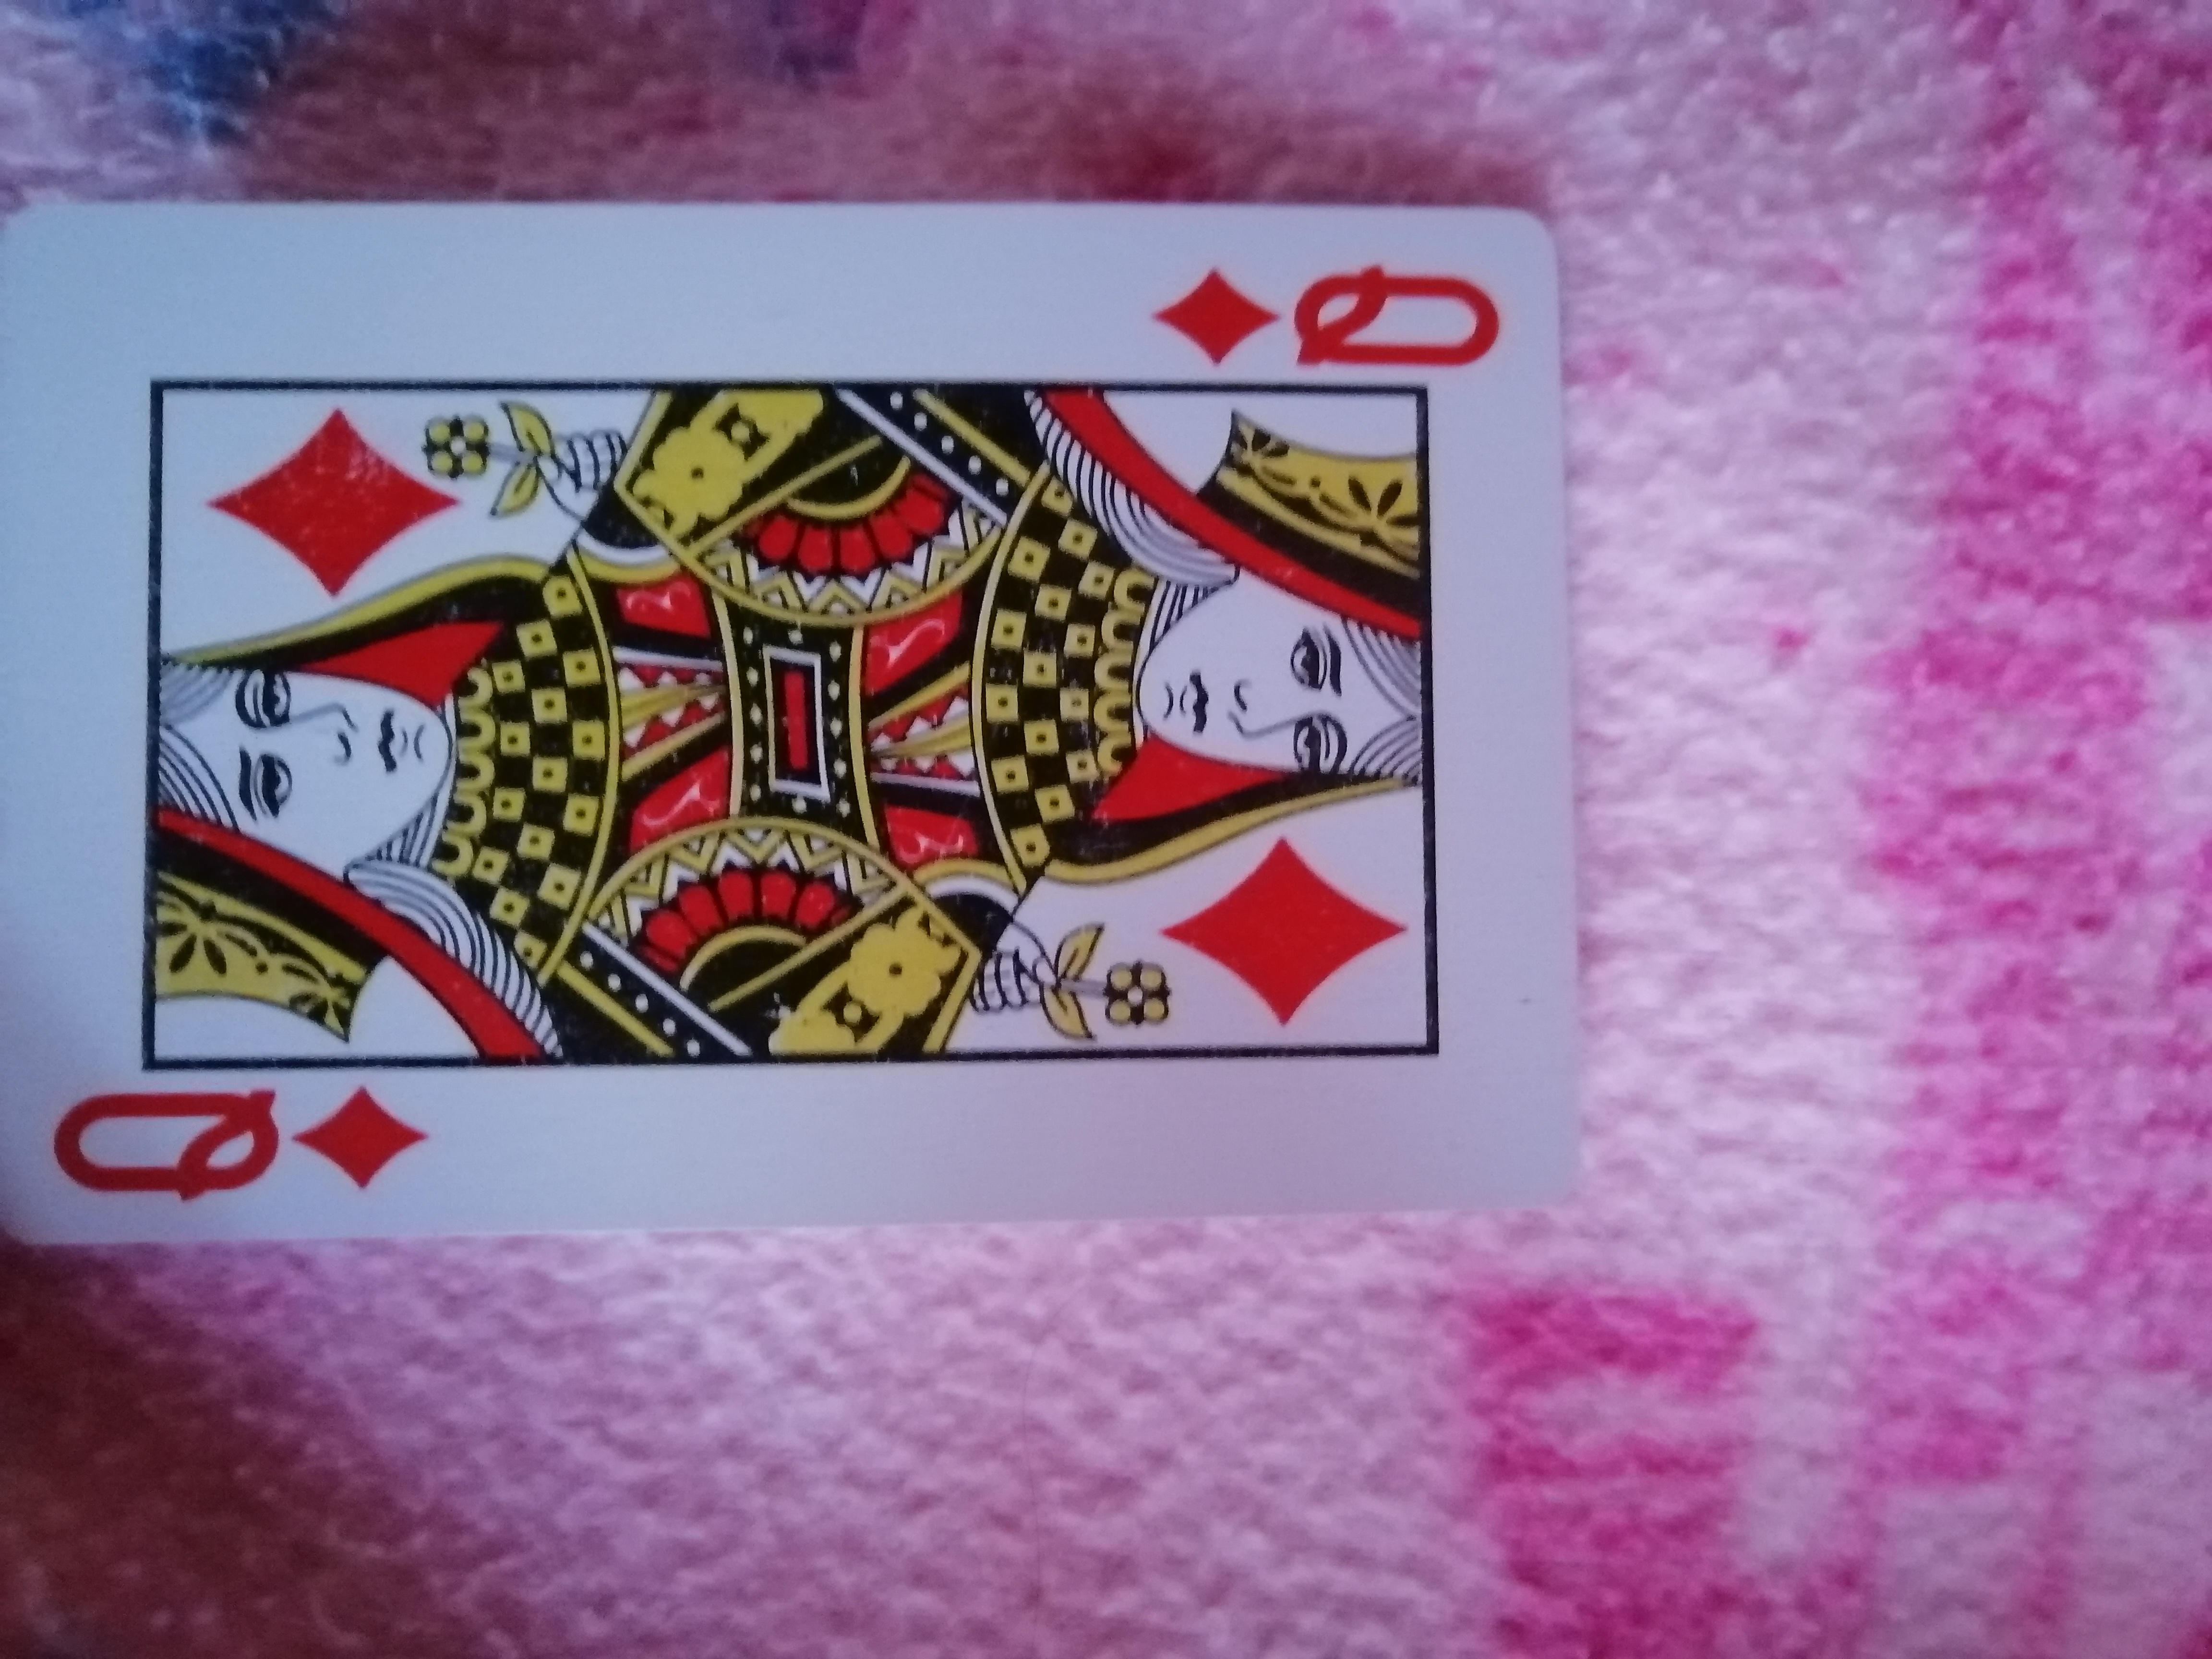queen: (17, 211, 1583, 1237)
